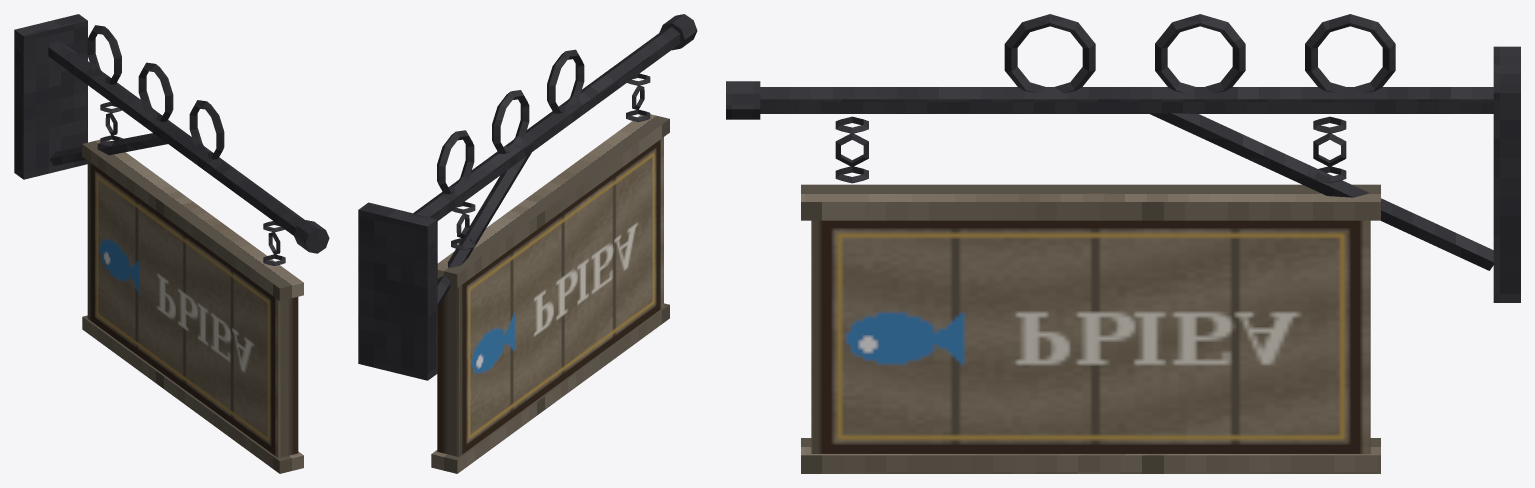
File: sign_fish.obj
The picture shows the model from 3 angles, left to right: view 1: azimuth 30°, elevation 25°; view 2: azimuth 150°, elevation 25°; view 3: azimuth 270°, elevation 25°; orthographic projection. The views are drawn at different scales.
Visible parts, largest first — view 1: sign_fish; view 2: sign_fish; view 3: sign_fish.
Boxes of the visible parts, x1,y1,x2,y2 form: sign_fish: (14, 14, 329, 473); sign_fish: (358, 14, 697, 473); sign_fish: (726, 14, 1520, 473).
Size of the model in its own units: 0.16 by 0.73 by 1.16.
